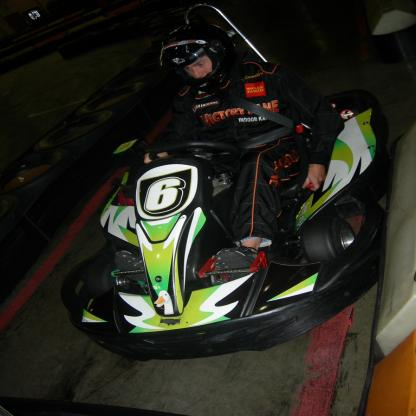Helmet: (162, 23, 239, 85), (355, 0, 415, 49)
